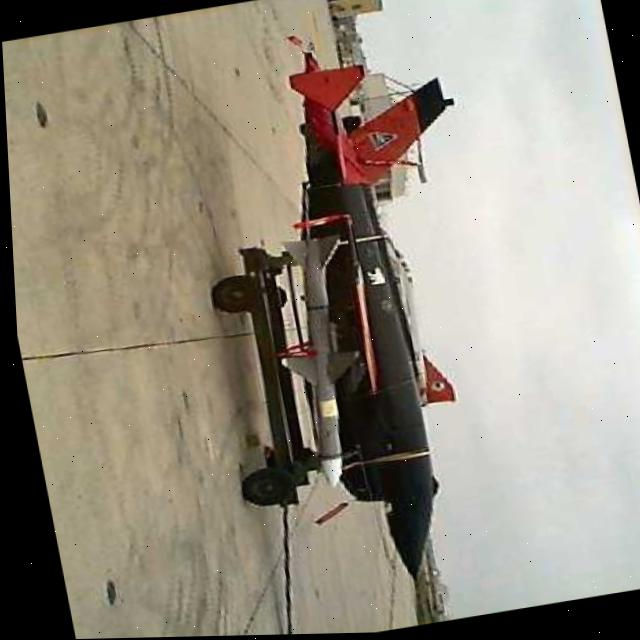missile: (248, 229, 380, 494)
